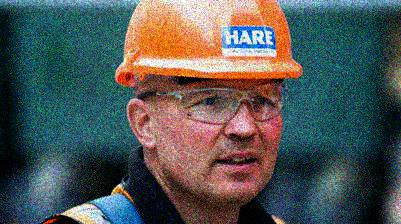helmet: (116, 1, 304, 206)
